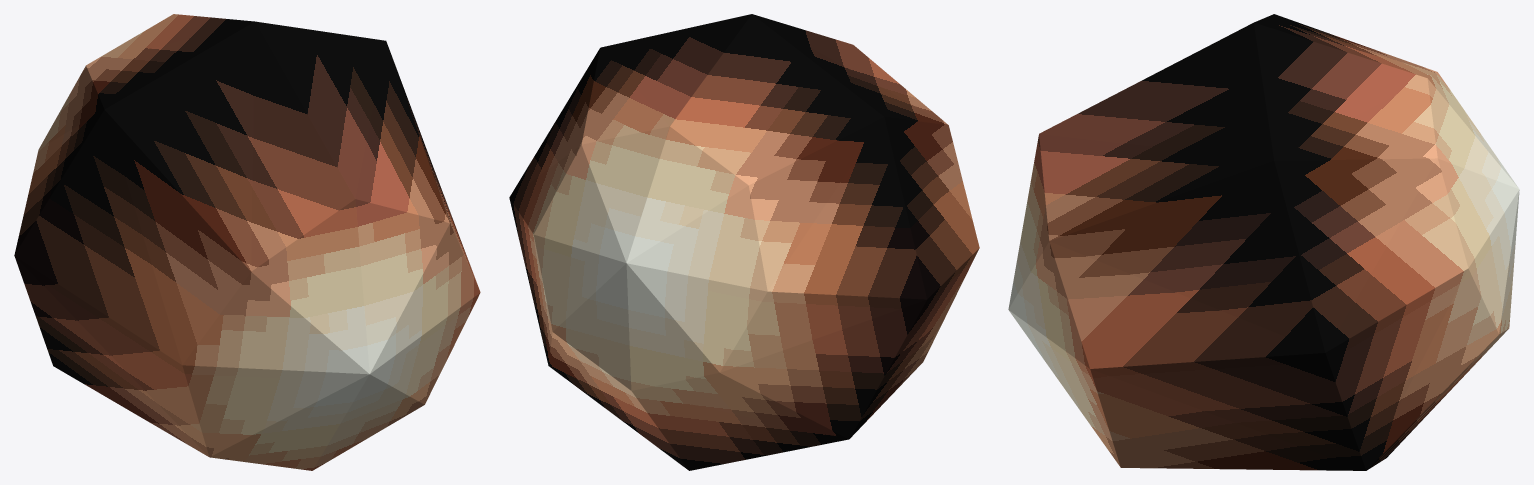
File: U_grenade.obj
3 views of the same model, side by side, from view 1: azimuth 30°, elevation 25°; view 2: azimuth 150°, elevation 25°; view 3: azimuth 270°, elevation 25° (orthographic). The views are drawn at different scales.
Parts seen in each view (by area): view 1: Node 0; view 2: Node 0; view 3: Node 0.
Part boxes in pixels (<box>): Node 0: <box>14,14,480,470</box>; Node 0: <box>509,14,979,470</box>; Node 0: <box>1008,14,1519,470</box>.
Bounding box in the file's own units: 0.5 × 0.47 × 0.5.
Materials: 1 (1 with a texture image).
